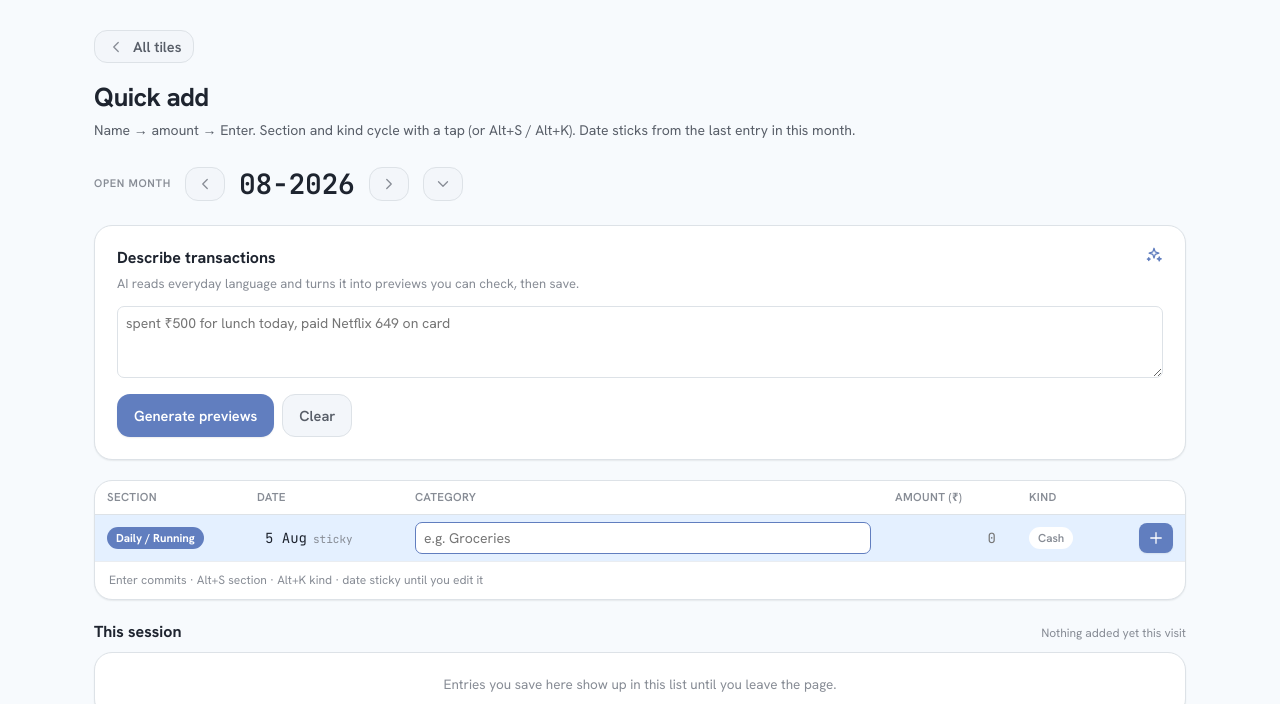
Test: RecordEntryPage AI previews › keeps the original text after a parse failure
The width and height of the screenshot is (1280, 704).
Expected: the heading "Quick add" is shown, [94,80,208,114]
Type "paid off my credit card" into the text box labelled "Describe transactions".
click(640, 342); type("paid off my credit card")  # box [117,306,1163,378]
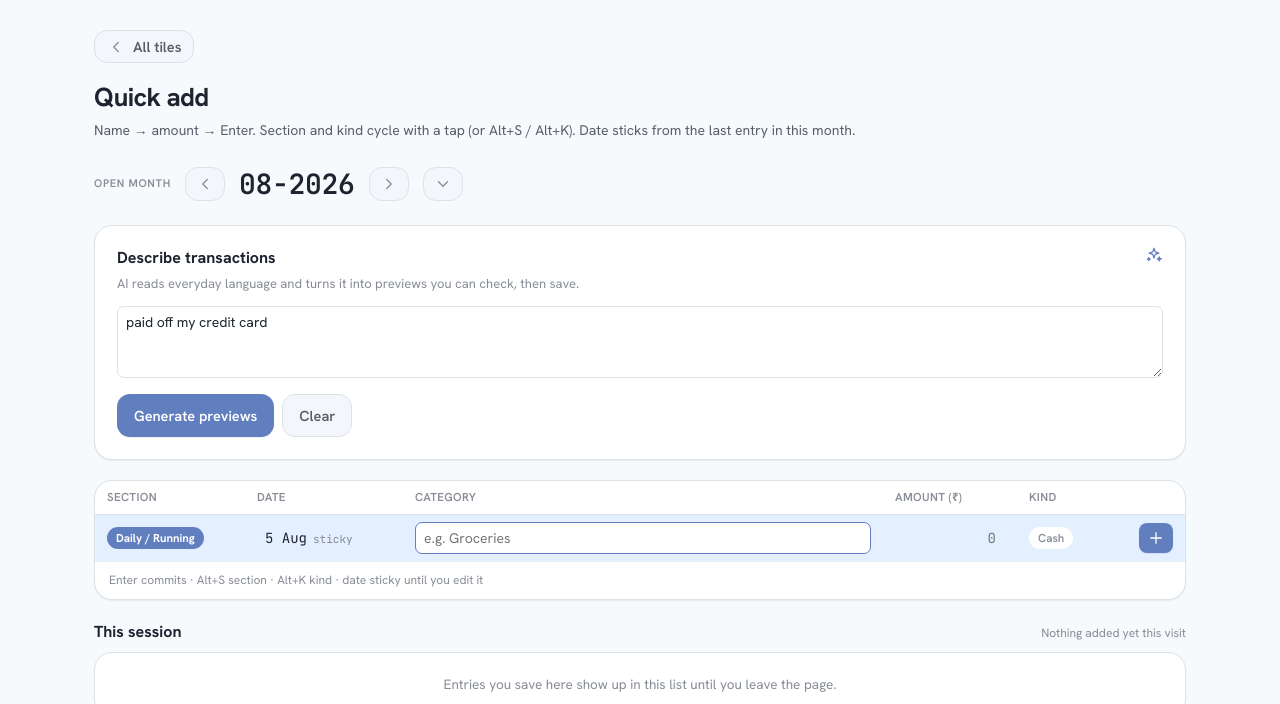
Click the button "Generate previews".
click(196, 416)  # box [117,394,274,437]
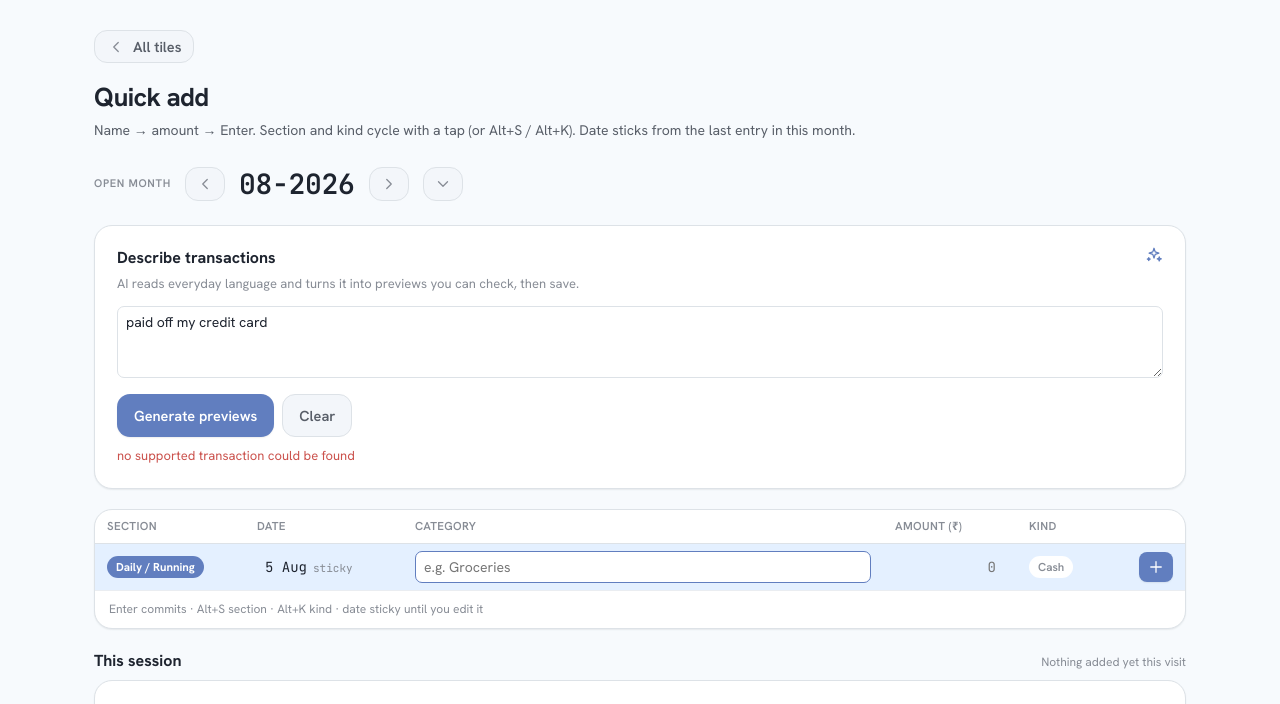
Expected: the message reads "no supported transaction could be found", [117,447,355,464]
